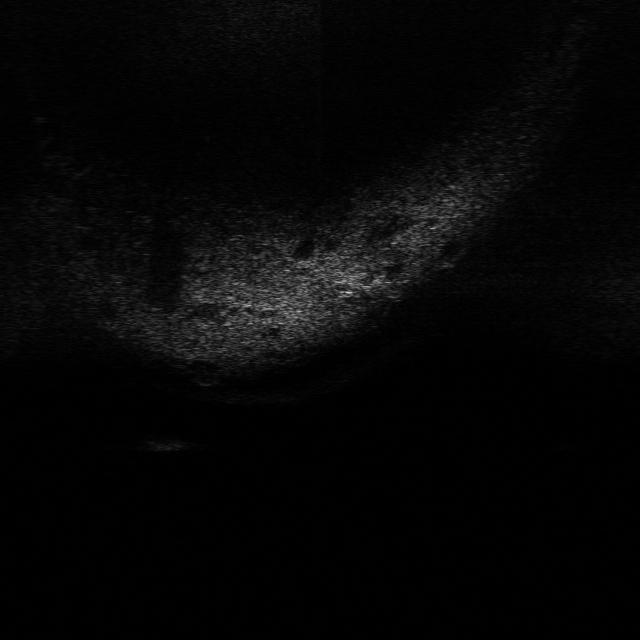cube: (132, 430, 196, 452)
